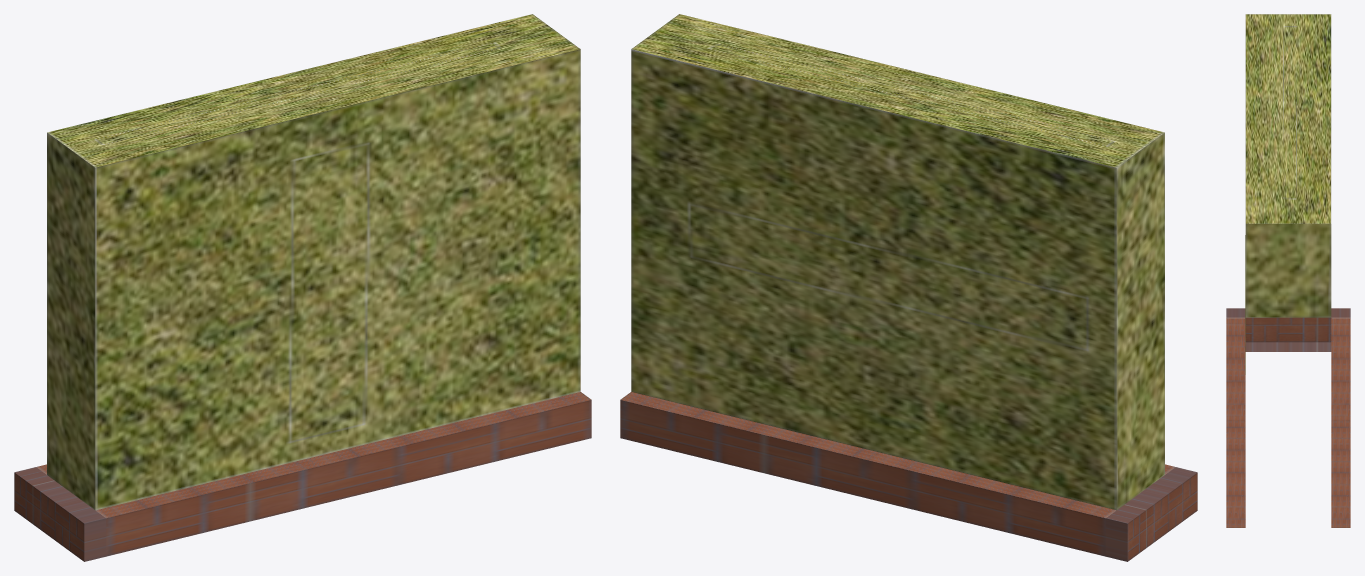
Rendered from hedgemazestart 1.fbx.
3 views of the same model, side by side, from view 1: azimuth 30°, elevation 25°; view 2: azimuth 150°, elevation 25°; view 3: azimuth 270°, elevation 25° (orthographic). The views are drawn at different scales.
Visible parts, largest first — view 1: pPlane4; view 2: pPlane4; view 3: pPlane4.
Boxes of the visible parts, <box> form: pPlane4: <box>14,14,591,561</box>; pPlane4: <box>620,14,1197,561</box>; pPlane4: <box>1226,14,1350,527</box>.
Size of the model in its own units: 4.18 by 3 by 1.
